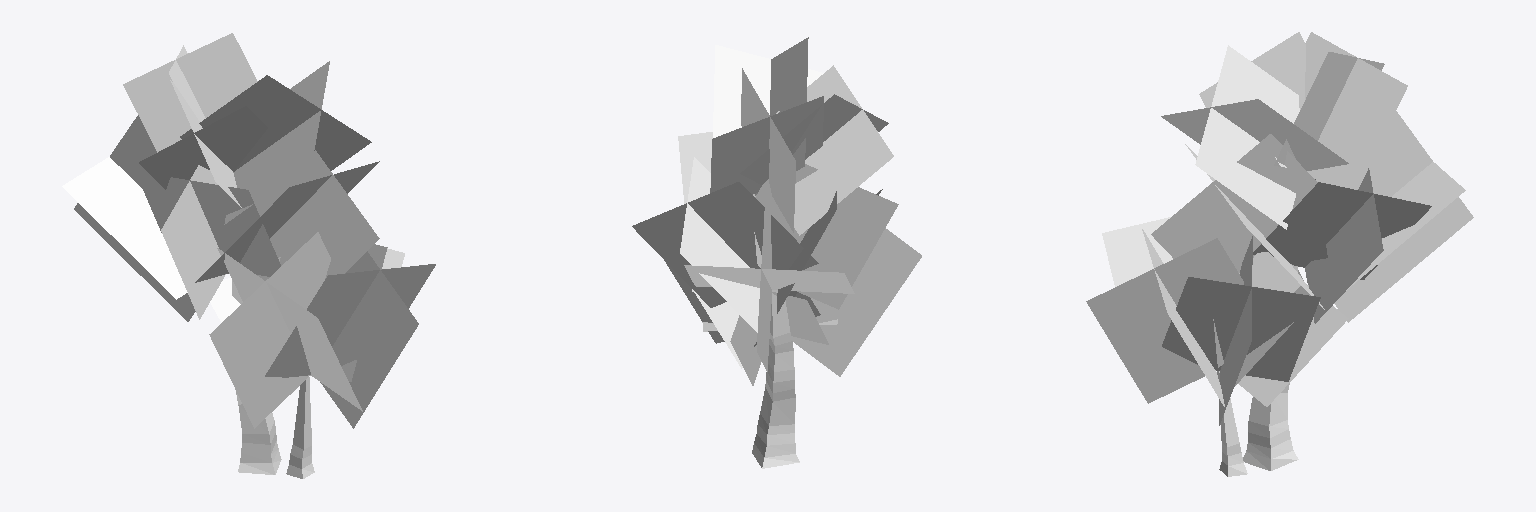
File: CartoonPalmTree_11.obj
3 renders of one model, left to right at view 1: azimuth 30°, elevation 25°; view 2: azimuth 150°, elevation 25°; view 3: azimuth 270°, elevation 25°, orthographic.
Parts seen in each view (by area): view 1: Cartoon Palm Tree 11; view 2: Cartoon Palm Tree 11; view 3: Cartoon Palm Tree 11.
Boxes of the visible parts, x1=… form: Cartoon Palm Tree 11: x1=62, y1=33, x2=435, y2=478; Cartoon Palm Tree 11: x1=632, y1=37, x2=921, y2=468; Cartoon Palm Tree 11: x1=1086, y1=32, x2=1473, y2=476.
Bounding box in the file's own units: 15.66 × 22.72 × 19.46.